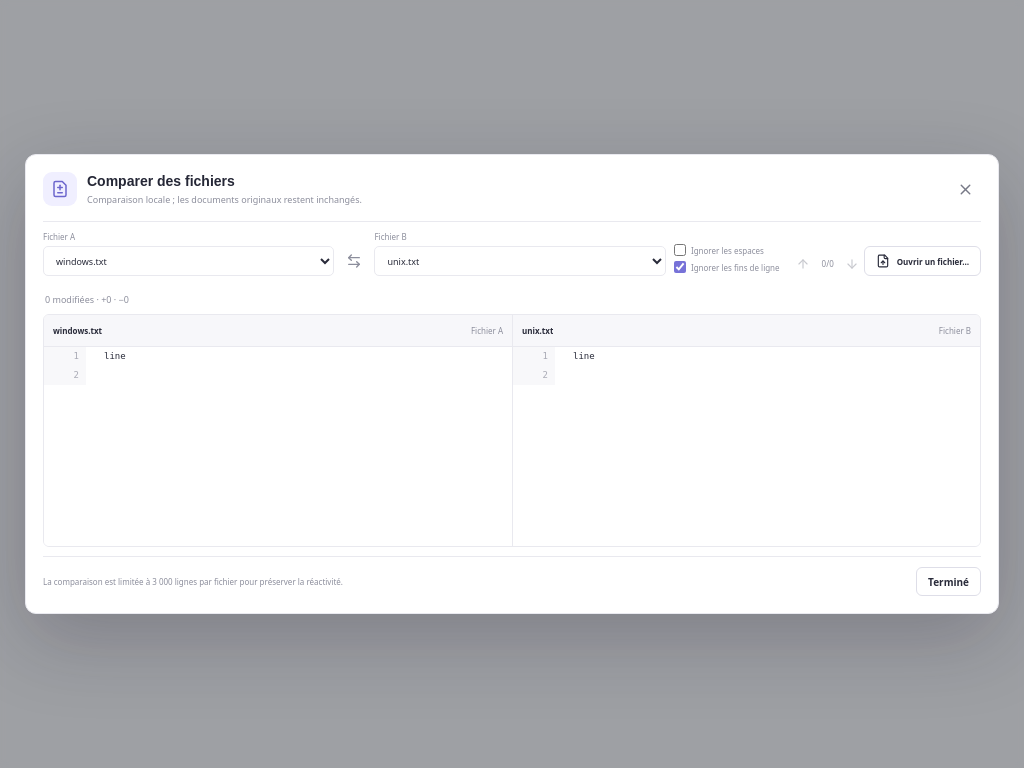
TextDiffDialog controls › ignores line endings by default and can include them in the diff
The image size is (1024, 768).
Expected: the text "0 modifiées · +0 · −0" is shown, x1=45 y1=293 x2=129 y2=306
Step 1. Click the checkbox labelled "Ignorer les fins de ligne" → coordinates (680, 267), box x1=674 y1=261 x2=686 y2=273
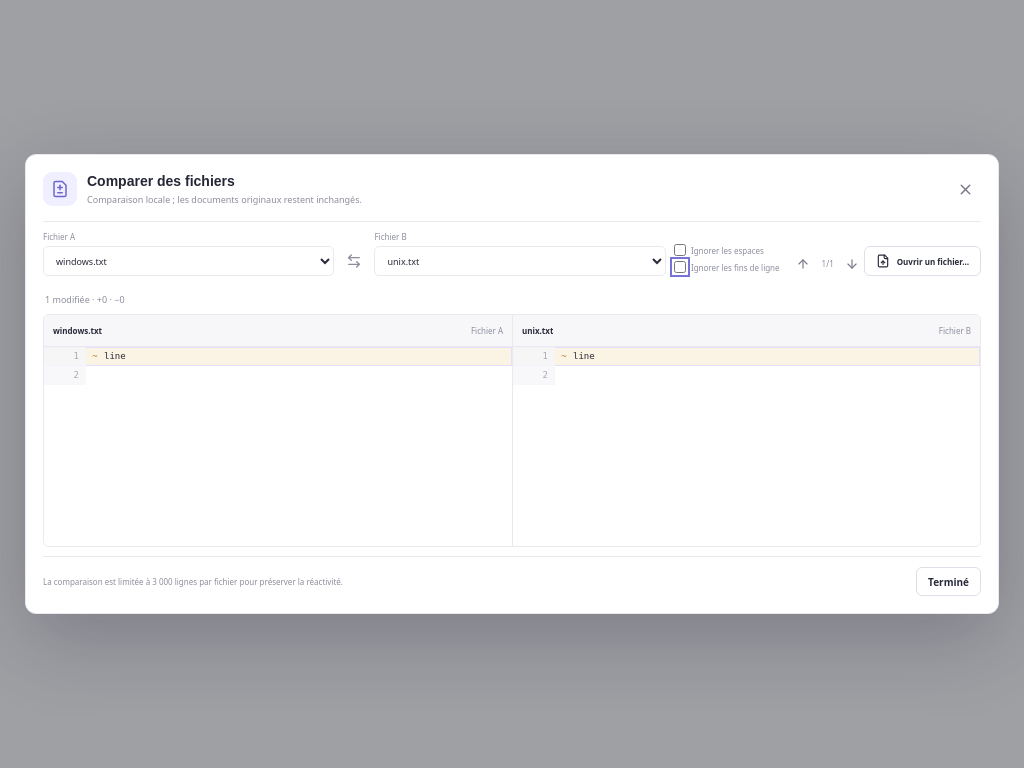
Now the text "1 modifiée · +0 · −0" is shown, box x1=45 y1=293 x2=125 y2=306
